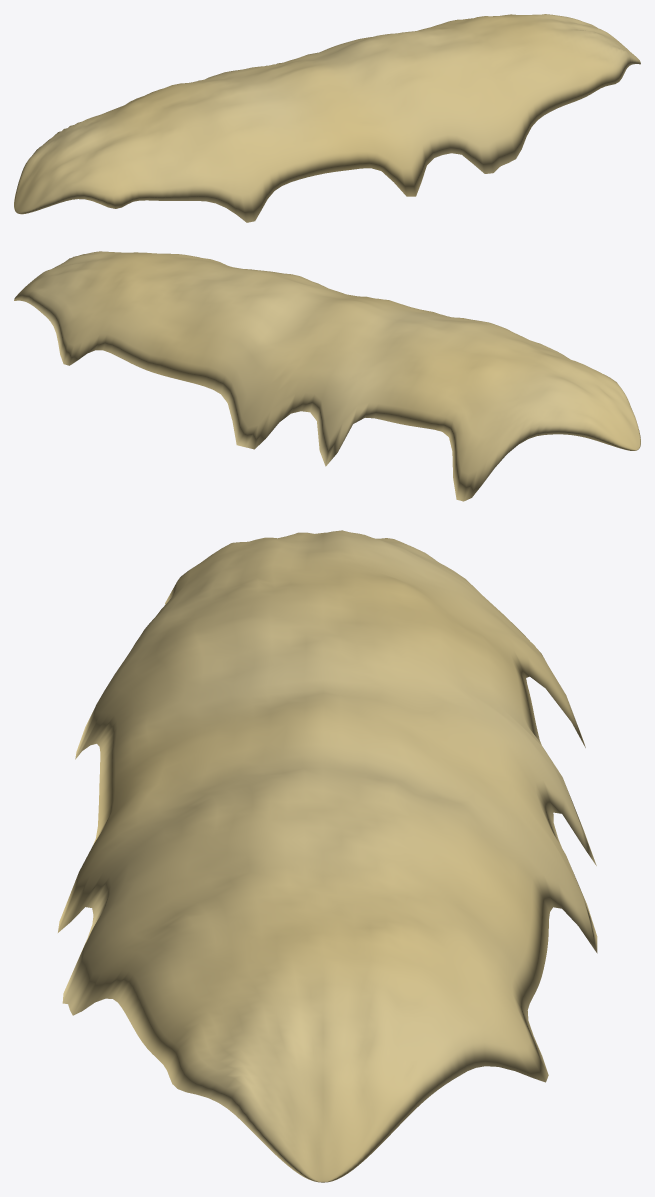
The model's file is creme.glb.
The picture shows the model from 3 angles, top to bottom: view 1: azimuth 30°, elevation 25°; view 2: azimuth 150°, elevation 25°; view 3: azimuth 270°, elevation 25°; orthographic projection. The views are drawn at different scales.
Parts seen in each view (by area): view 1: creme_queijo; view 2: creme_queijo; view 3: creme_queijo.
Boxes of the visible parts, x1=… form: creme_queijo: x1=14, y1=14, x2=640, y2=222; creme_queijo: x1=14, y1=251, x2=640, y2=501; creme_queijo: x1=58, y1=530, x2=597, y2=1182.
Bounding box in the file's own units: 0.264 × 0.0421 × 0.0993.
